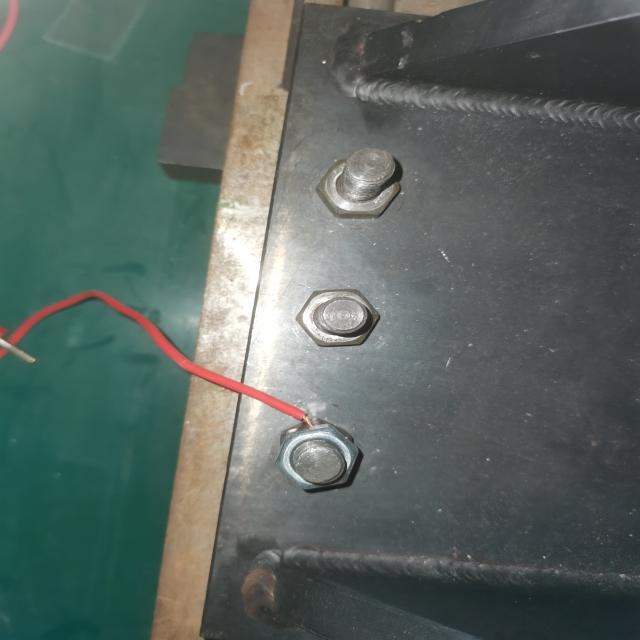bolt nut: (313, 148, 404, 220), (272, 424, 362, 491), (294, 289, 380, 348)
